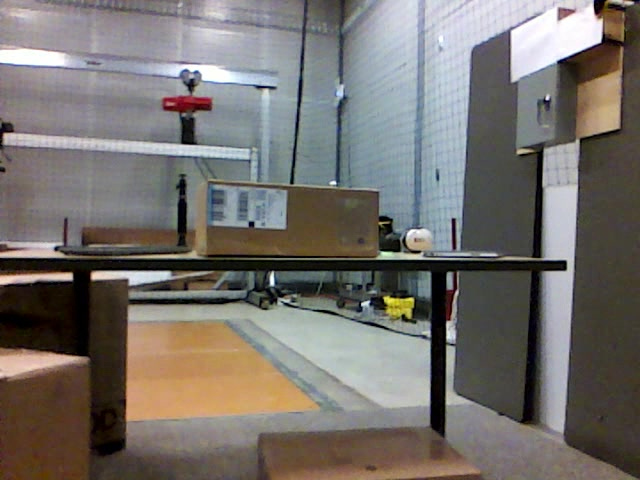box: (1, 275, 128, 453), (197, 179, 381, 257), (1, 349, 91, 475), (258, 429, 478, 480)
